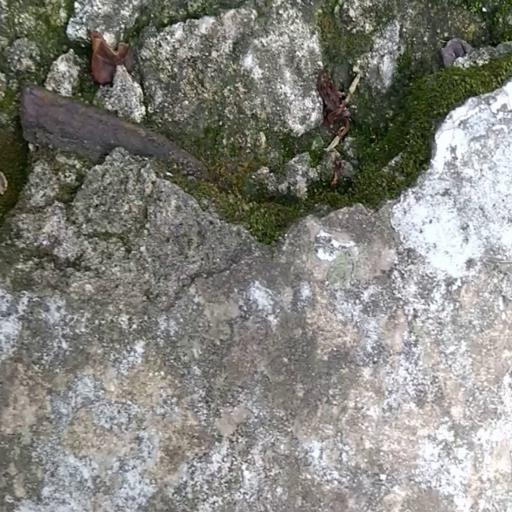spalling: (0, 0, 512, 292)
